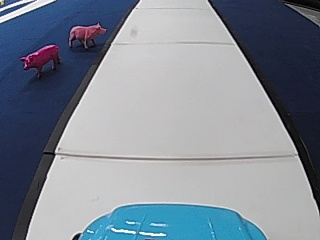pig: (17, 41, 61, 78), (65, 20, 106, 49)
